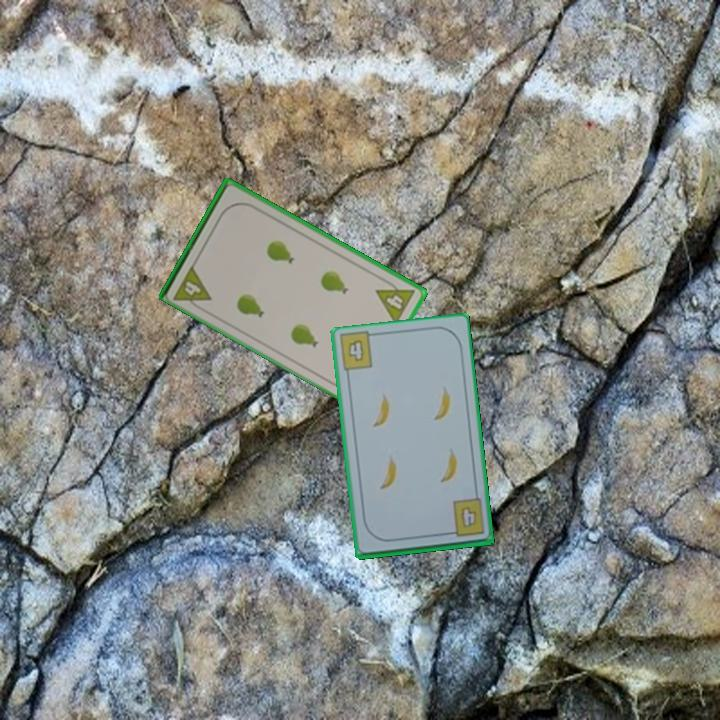4b: (443, 496, 487, 540), (344, 336, 367, 364)
4p: (372, 274, 418, 327), (170, 261, 214, 314)
